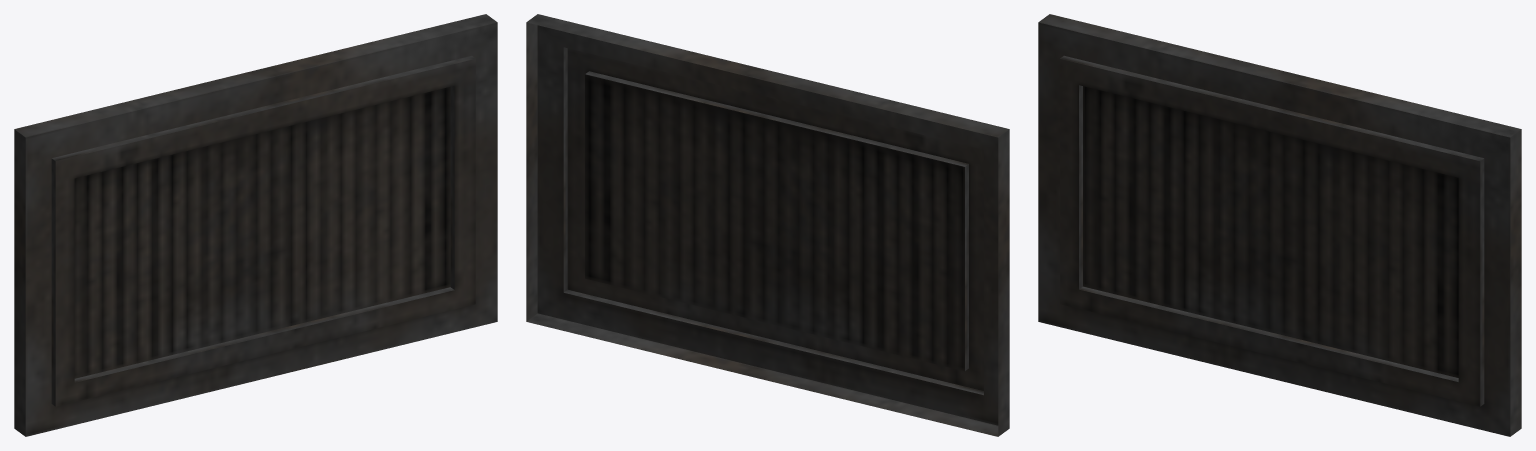
The model's file is vent_mp_1.obj.
3 views of the same model, side by side, from view 1: azimuth 30°, elevation 25°; view 2: azimuth 150°, elevation 25°; view 3: azimuth 330°, elevation 25° (orthographic).
Parts seen in each view (by area): view 1: vent_mp_1; view 2: vent_mp_1; view 3: vent_mp_1.
Boxes of the visible parts, <box> form: vent_mp_1: <box>14,14,497,436</box>; vent_mp_1: <box>526,14,1009,436</box>; vent_mp_1: <box>1038,14,1521,436</box>.
Bounding box in the file's own units: 0.33 × 0.2 × 0.019.
